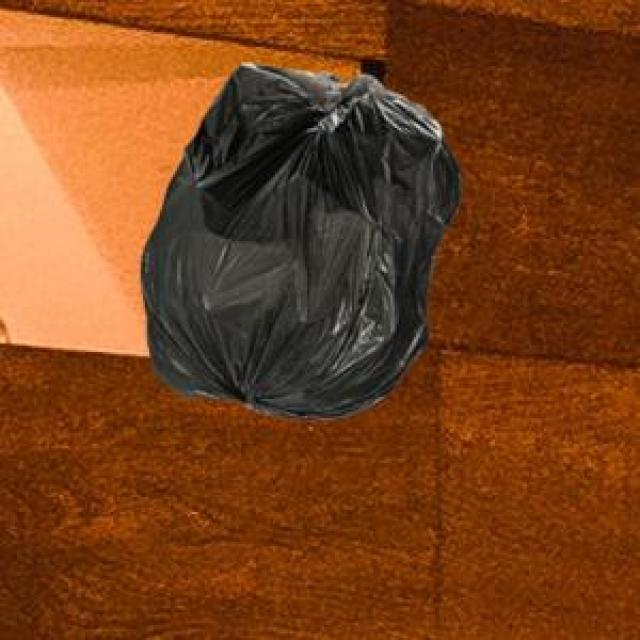garbage_bag: (134, 56, 462, 423)
